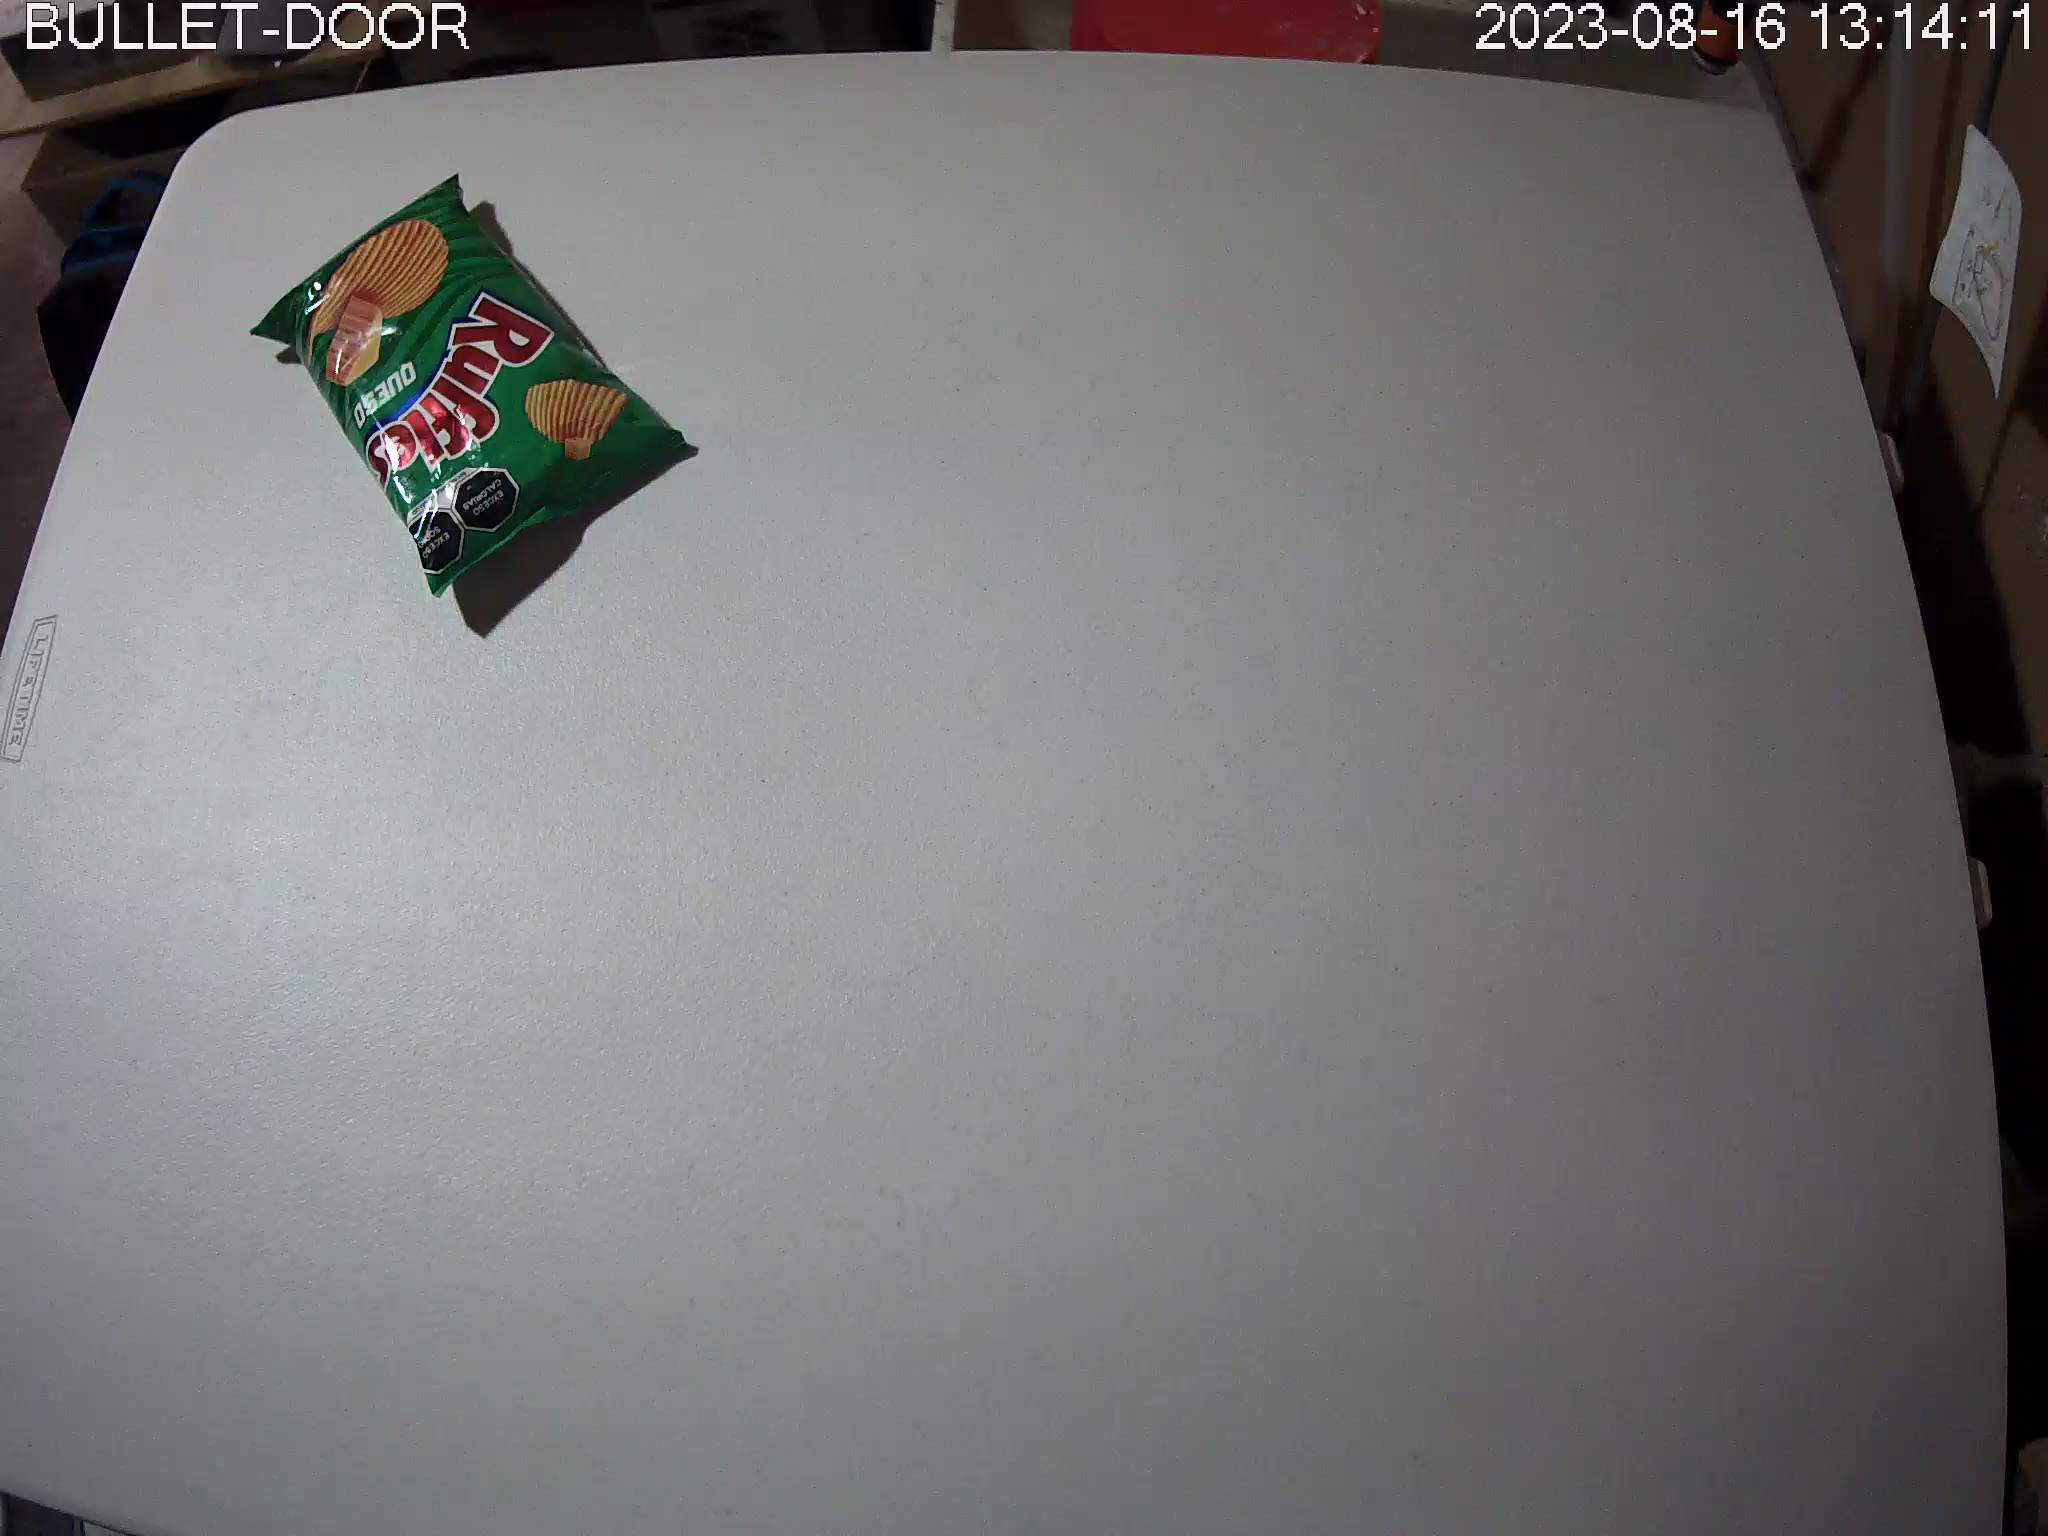RufflesQ_48_F: (252, 171, 689, 599)
